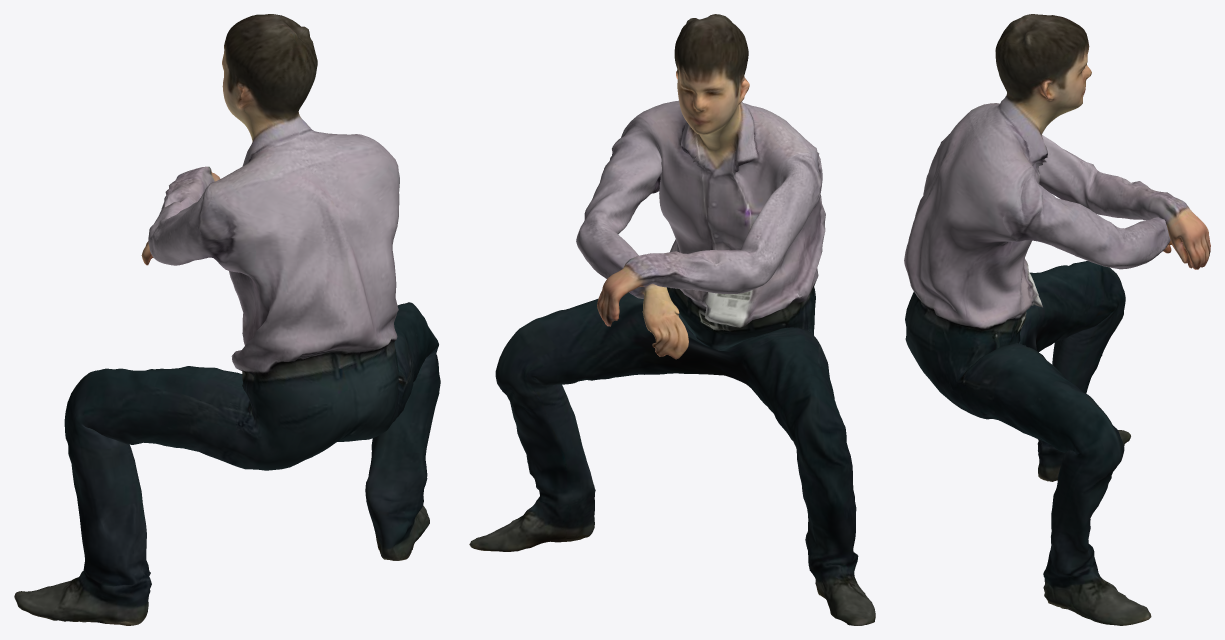
Rendered from sittingchar.glb.
The picture shows the model from 3 angles, left to right: view 1: azimuth 30°, elevation 25°; view 2: azimuth 150°, elevation 25°; view 3: azimuth 270°, elevation 25°; orthographic projection. The views are drawn at different scales.
Parts seen in each view (by area): view 1: result_mesh; view 2: result_mesh; view 3: result_mesh.
Part boxes in pixels (x1,y1,x2,y2): result_mesh: (14,14,440,625); result_mesh: (469,14,875,625); result_mesh: (904,14,1210,625).
Size of the model in its own units: 0.2083 by 0.2757 by 0.1464.
1 material, 1 textured.
